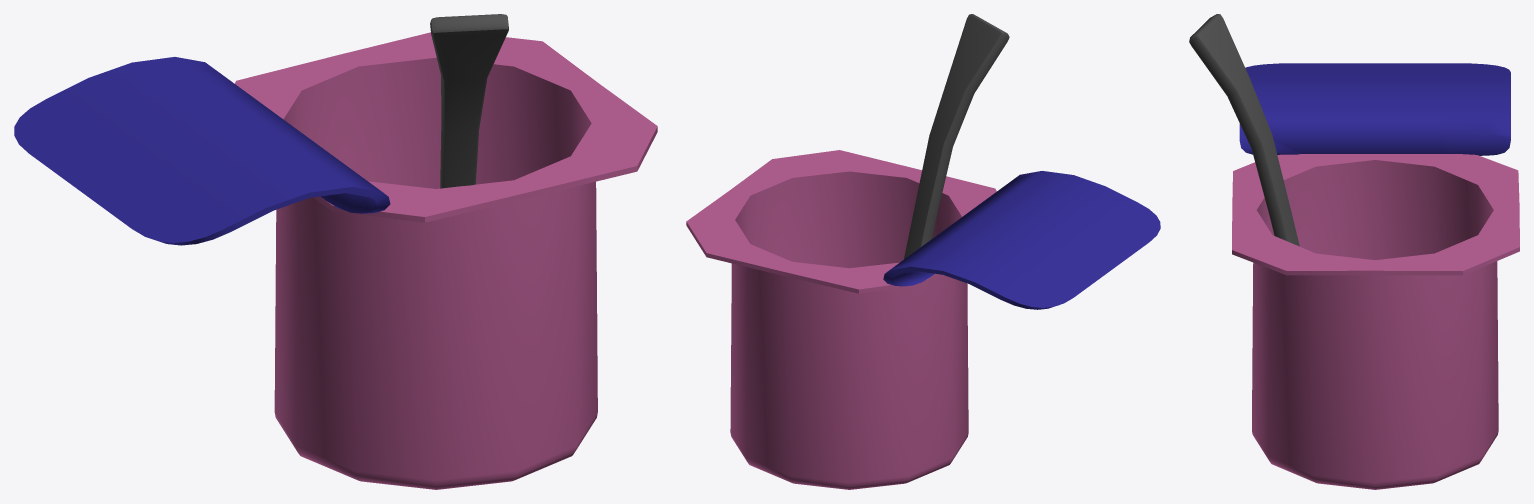
File: General waste - Yogurt cup.fbx
3 views of the same model, side by side, from view 1: azimuth 30°, elevation 25°; view 2: azimuth 150°, elevation 25°; view 3: azimuth 270°, elevation 25° (orthographic). The views are drawn at different scales.
Visible parts, largest first — view 1: Cylinder001; view 2: Cylinder001; view 3: Cylinder001.
Boxes of the visible parts, x1,y1,x2,y2 form: Cylinder001: (14,14,657,489); Cylinder001: (686,14,1160,489); Cylinder001: (1189,14,1519,489).
Size of the model in its own units: 95.45 by 89.51 by 68.93.
